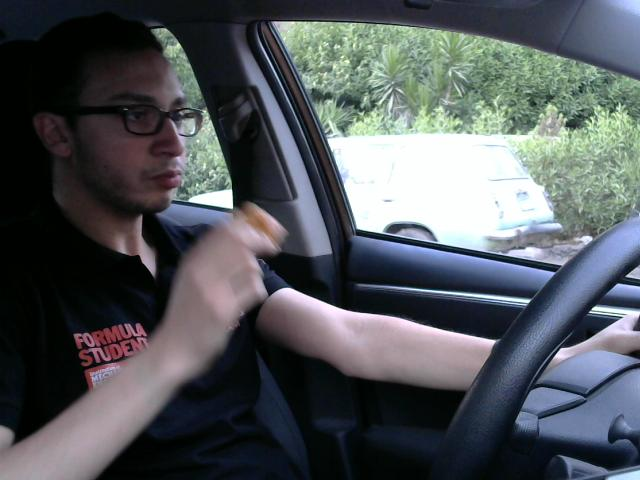Eating: (206, 199, 296, 259)
